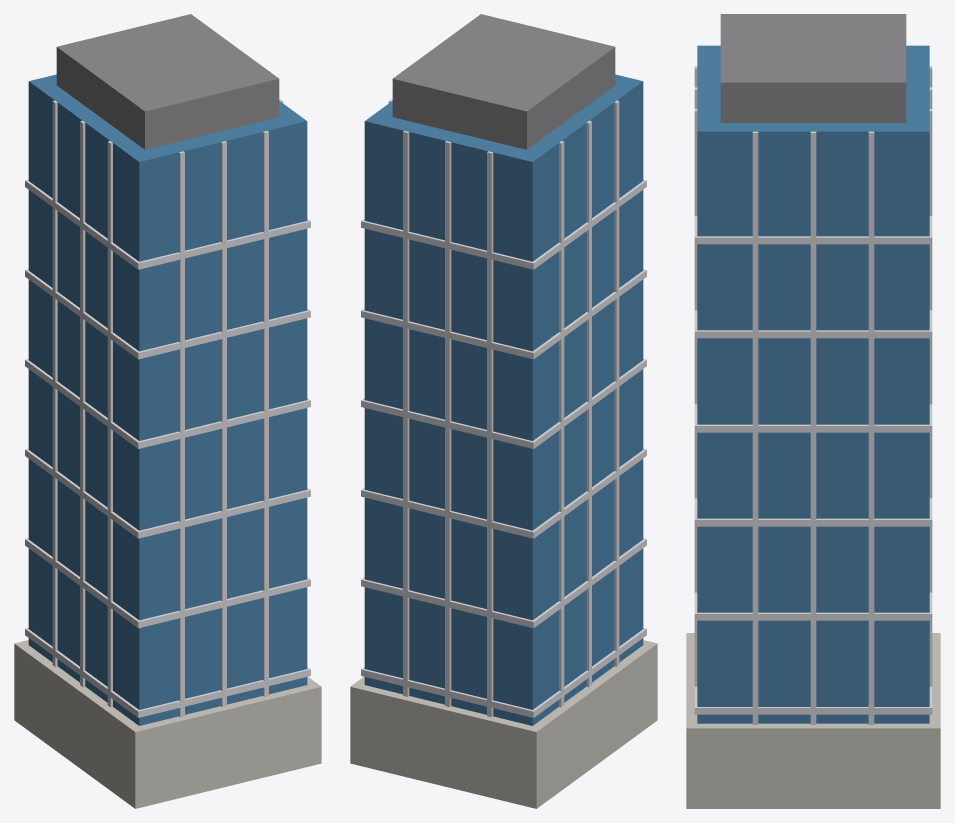
File: tower_1.glb
3 views of the same model, side by side, from view 1: azimuth 30°, elevation 25°; view 2: azimuth 150°, elevation 25°; view 3: azimuth 270°, elevation 25° (orthographic). The views are drawn at different scales.
Visible parts, largest first — view 1: tower_1; view 2: tower_1; view 3: tower_1.
Boxes of the visible parts, x1,y1,x2,y2 form: tower_1: (14,14,321,808); tower_1: (350,14,657,808); tower_1: (686,14,940,808).
Bounding box in the file's own units: 3.05 × 10.61 × 3.43.
